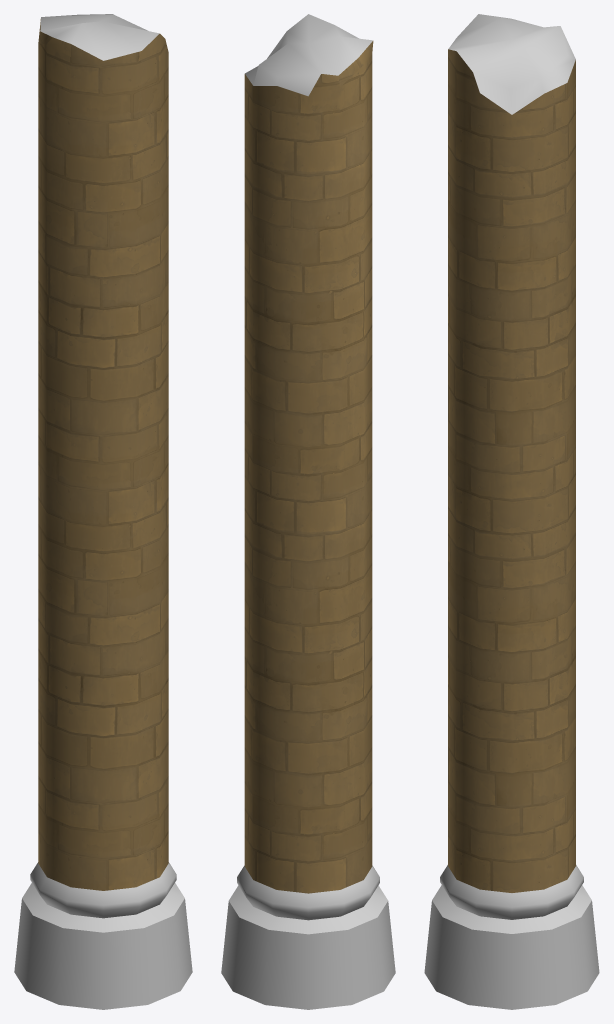
File: Pillar_004.fbx
3 views of the same model, side by side, from view 1: azimuth 30°, elevation 25°; view 2: azimuth 150°, elevation 25°; view 3: azimuth 270°, elevation 25° (orthographic). The views are drawn at different scales.
Visible parts, largest first — view 1: Pillar_004; view 2: Pillar_004; view 3: Pillar_004.
Part boxes in pixels (<box>): Pillar_004: <box>14,14,192,1009</box>; Pillar_004: <box>221,14,395,1009</box>; Pillar_004: <box>424,14,599,1009</box>.
Size of the model in its own units: 135 by 801 by 135.
